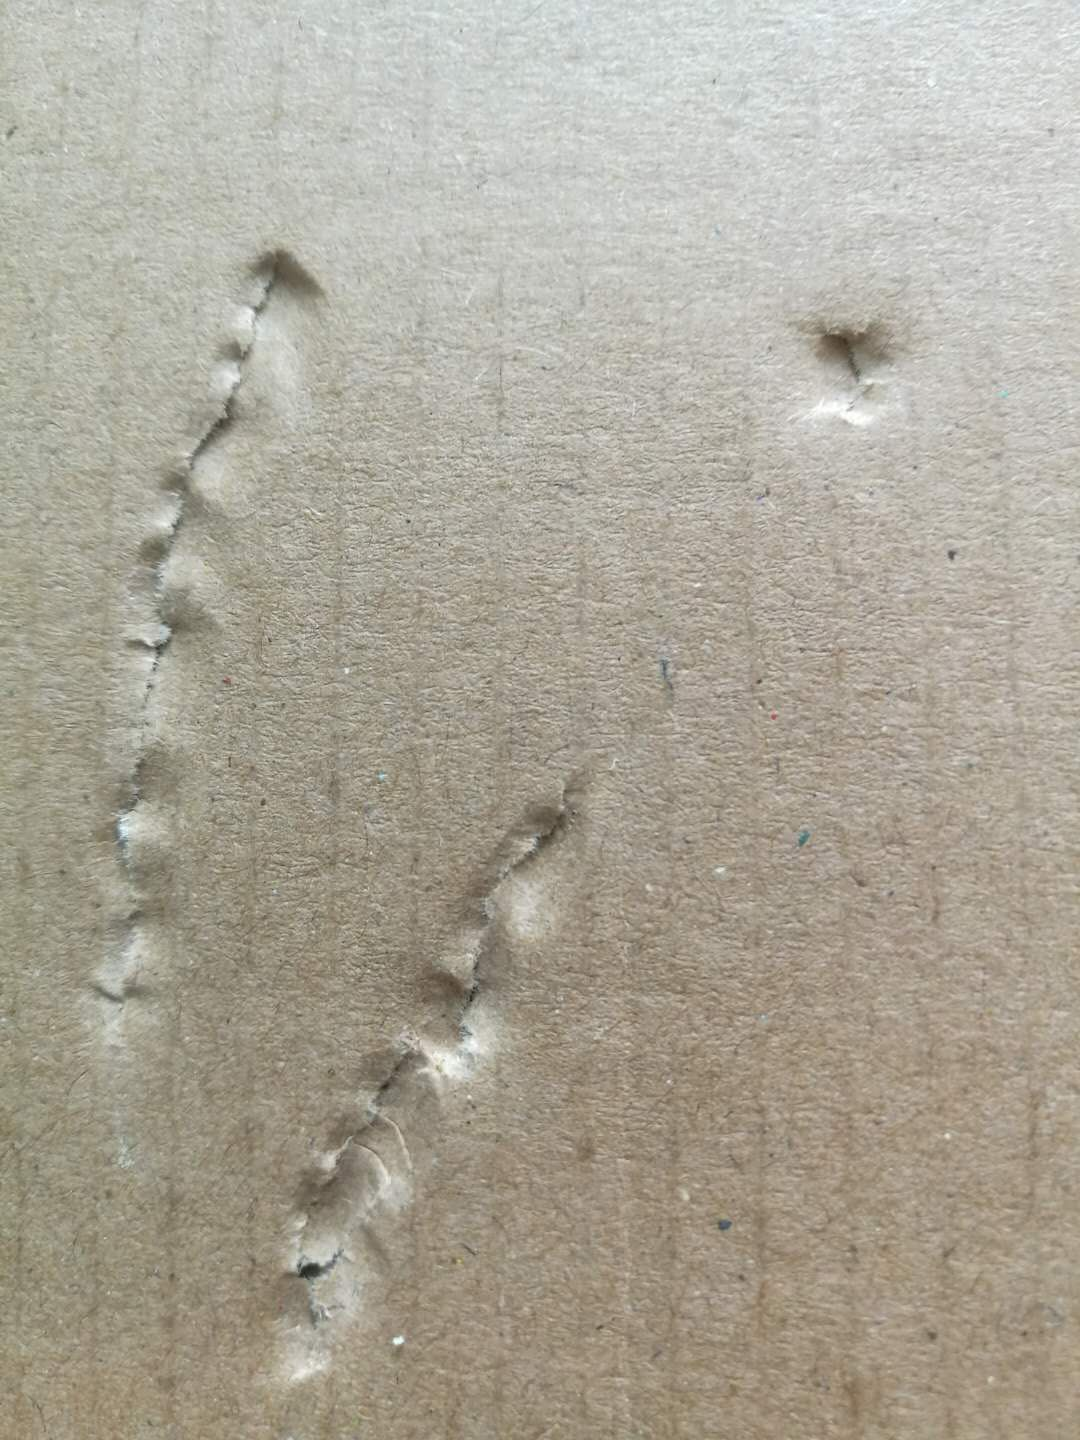defect: (48, 202, 368, 1179), (243, 702, 665, 1407), (773, 270, 946, 465)
